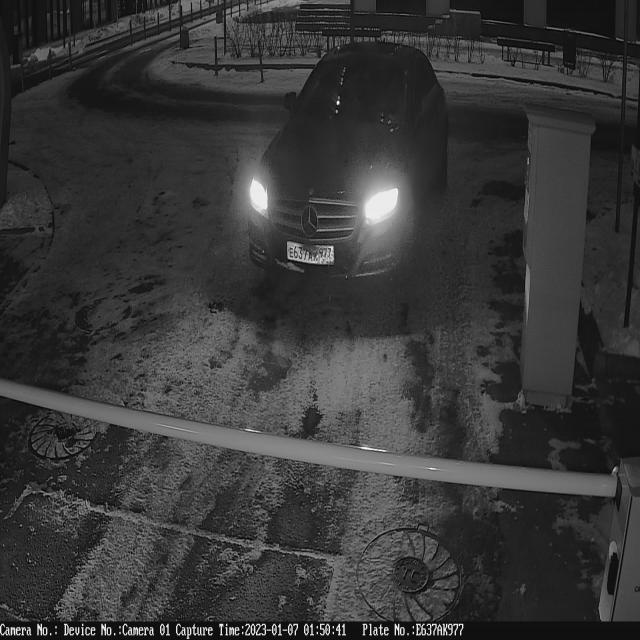car-plate-numbers: (282, 239, 338, 276)
